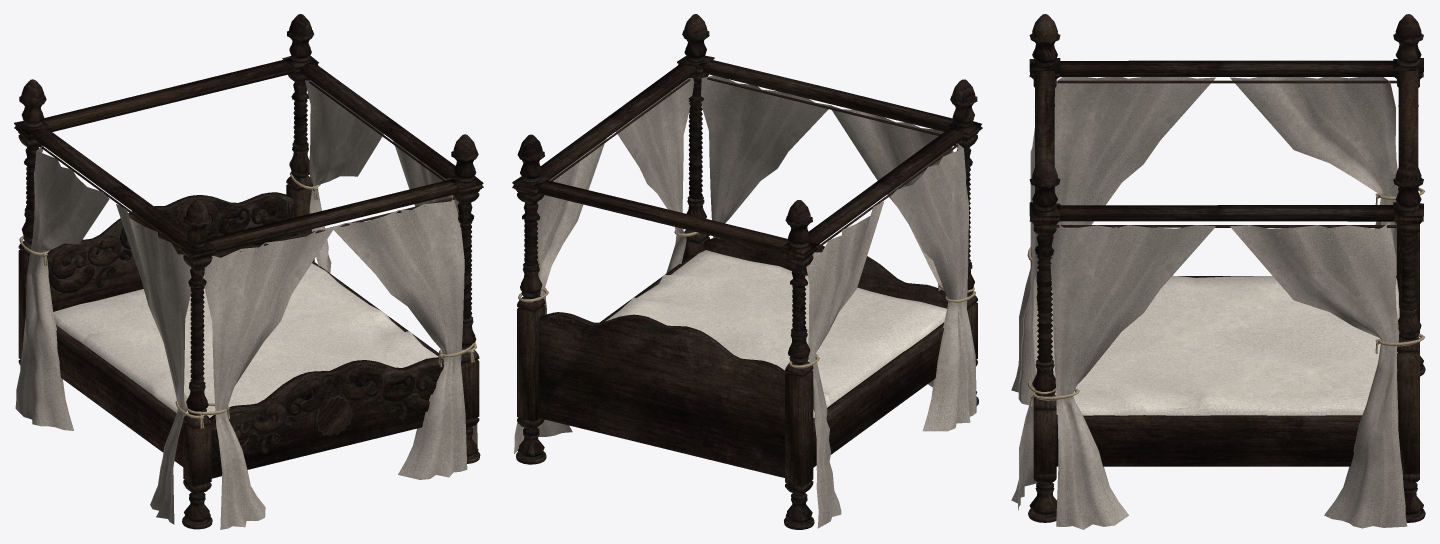
Rendered from canopy_bed.glb.
3 renders of one model, left to right at view 1: azimuth 30°, elevation 25°; view 2: azimuth 150°, elevation 25°; view 3: azimuth 270°, elevation 25°, orthographic. The views are drawn at different scales.
Visible parts, largest first — view 1: 2ndFlr_ParentsBed_Core_2ndFlr_ParentsBed_0; view 2: 2ndFlr_ParentsBed_Core_2ndFlr_ParentsBed_0; view 3: 2ndFlr_ParentsBed_Core_2ndFlr_ParentsBed_0.
Part boxes in pixels (bbox=[...]): 2ndFlr_ParentsBed_Core_2ndFlr_ParentsBed_0: bbox=[14, 14, 483, 529]; 2ndFlr_ParentsBed_Core_2ndFlr_ParentsBed_0: bbox=[512, 14, 982, 529]; 2ndFlr_ParentsBed_Core_2ndFlr_ParentsBed_0: bbox=[1011, 14, 1425, 529].
Bounding box in the file's own units: 2.34 × 2.3 × 2.41.
3 materials, 3 textured.
